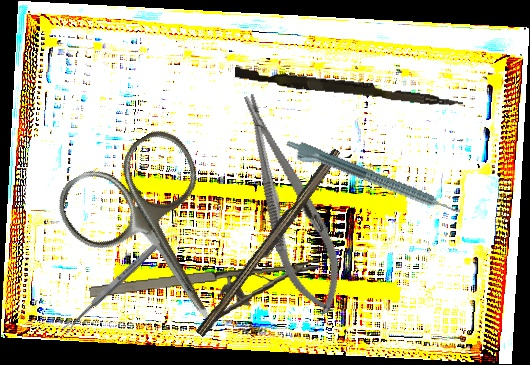Handpiece: (282, 136, 462, 226)
Iris Scissors: (46, 119, 270, 359)
Needle Holder: (223, 85, 356, 322), (88, 259, 324, 336)
Pusher: (233, 67, 465, 108)
Scalpel Handle: (195, 145, 345, 342)
Surgical Spoon: (61, 236, 166, 334)
